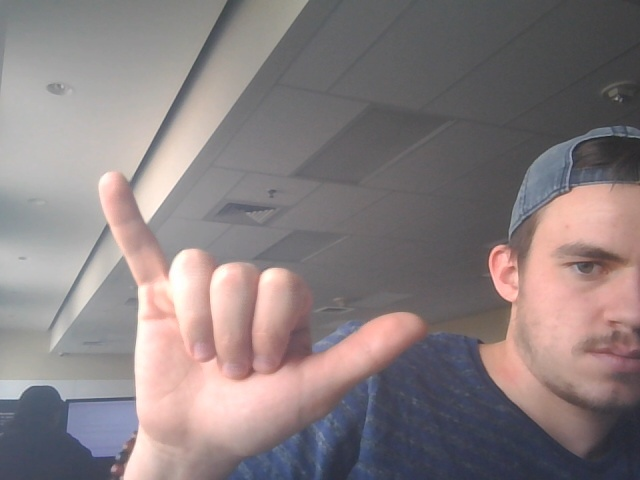birdsup: (89, 164, 433, 454)
